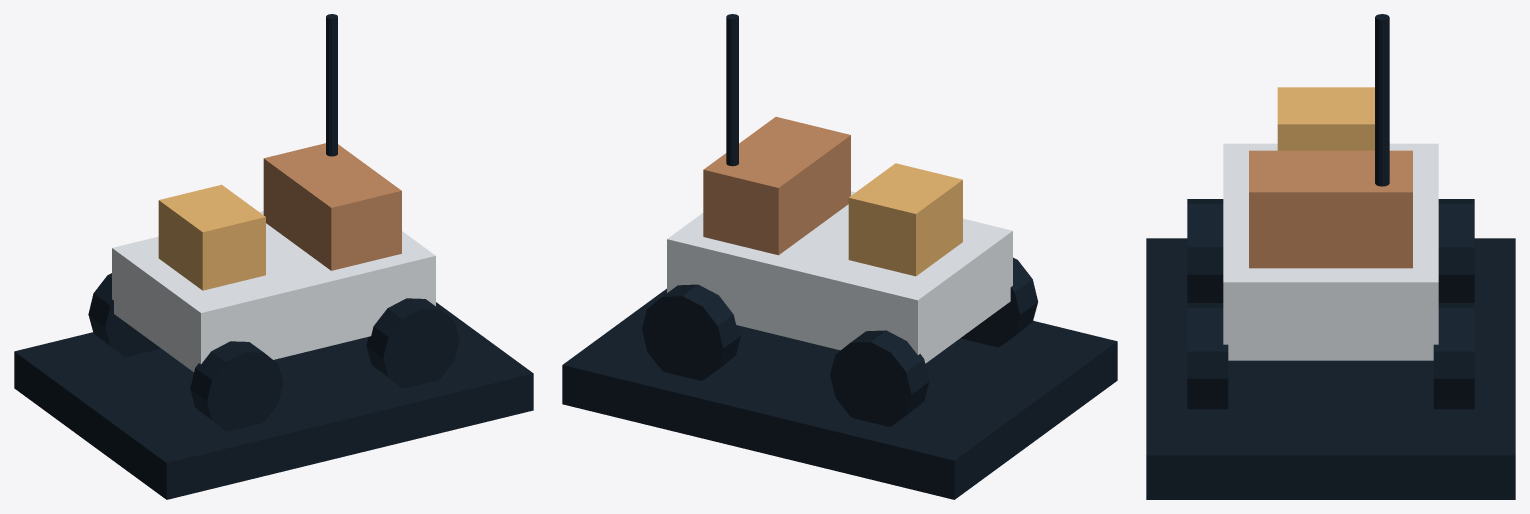
File: station-rover-bay.glb
3 renders of one model, left to right at view 1: azimuth 30°, elevation 25°; view 2: azimuth 150°, elevation 25°; view 3: azimuth 270°, elevation 25°, orthographic. The views are drawn at different scales.
Visible parts, largest first — view 1: foundation, rover-body, wheel (×3), cargo, seat, antenna; view 2: foundation, rover-body, wheel (×3), cargo, seat, antenna; view 3: foundation, rover-body, cargo, wheel (×4), seat, antenna.
Boxes of the visible parts, <box> form: foundation: <box>14,302,533,499</box>; rover-body: <box>112,211,435,371</box>; wheel (×3): <box>88,273,459,431</box>; cargo: <box>263,143,401,270</box>; seat: <box>158,184,265,290</box>; antenna: <box>326,14,337,156</box>; foundation: <box>562,288,1117,499</box>; rover-body: <box>667,191,1012,363</box>; wheel (×3): <box>642,257,1037,426</box>; cargo: <box>703,116,850,255</box>; seat: <box>848,163,962,276</box>; antenna: <box>726,14,738,166</box>; foundation: <box>1146,238,1515,499</box>; rover-body: <box>1223,143,1438,360</box>; cargo: <box>1249,150,1412,268</box>; wheel (×4): <box>1187,199,1474,409</box>; seat: <box>1277,87,1374,150</box>; antenna: <box>1375,14,1389,186</box>.
Bounding box in the file's own units: 2.5 × 2.26 × 1.8.
